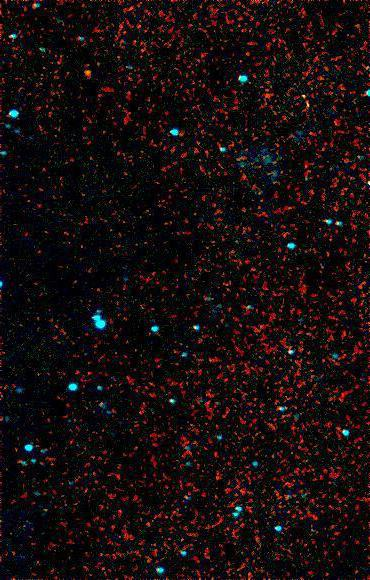star: (73, 57, 103, 87)
